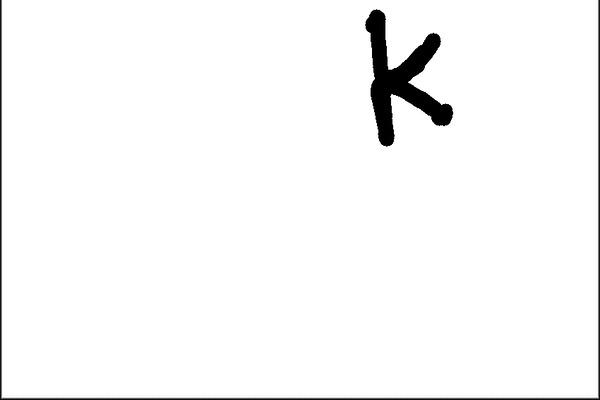K: (358, 3, 459, 151)
